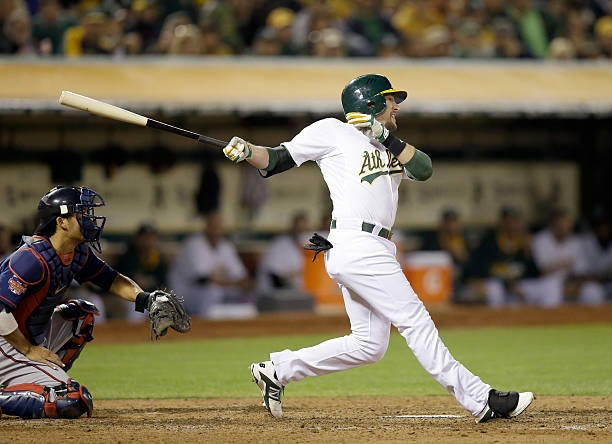bita: (61, 90, 242, 158)
